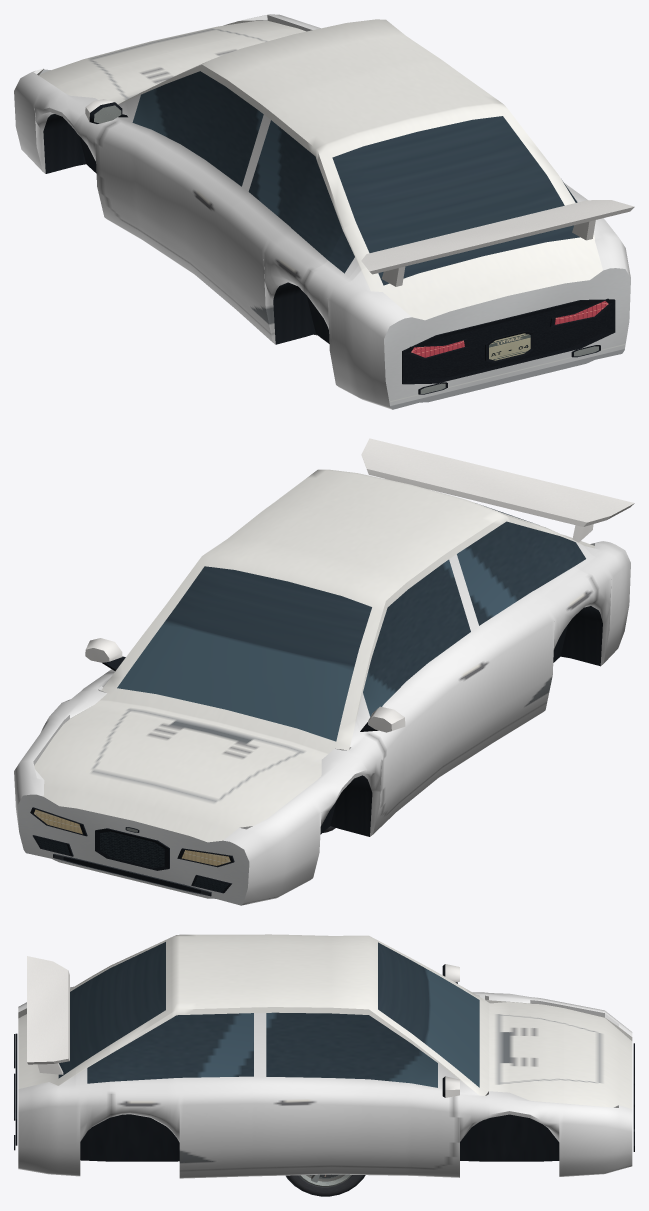
File: vetra_x.glb
The picture shows the model from 3 angles, top to bottom: view 1: azimuth 30°, elevation 25°; view 2: azimuth 150°, elevation 25°; view 3: azimuth 270°, elevation 25°; orthographic projection. The views are drawn at different scales.
Visible parts, largest first — view 1: Carroceria_vetra_x; view 2: Carroceria_vetra_x; view 3: Carroceria_vetra_x, Roda_vetra_x.
Boxes of the visible parts, x1,y1,x2,y2 form: Carroceria_vetra_x: (14, 14, 634, 409); Carroceria_vetra_x: (14, 438, 634, 905); Carroceria_vetra_x: (14, 934, 634, 1178); Roda_vetra_x: (286, 1174, 365, 1196).
Bounding box in the file's own units: 2.03 × 1.71 × 4.22.
6 materials, 6 textured.
